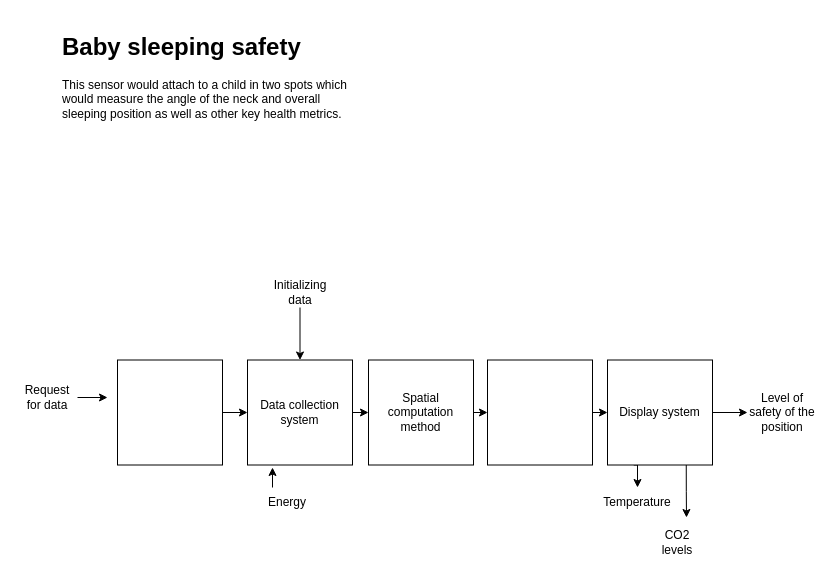
This 834x574 diagram has some shape labels left out. Each missing label, with the centre of its shape:
"Attachment method" goes at [169,412].
"Health data measurement system" goes at [539,412].
